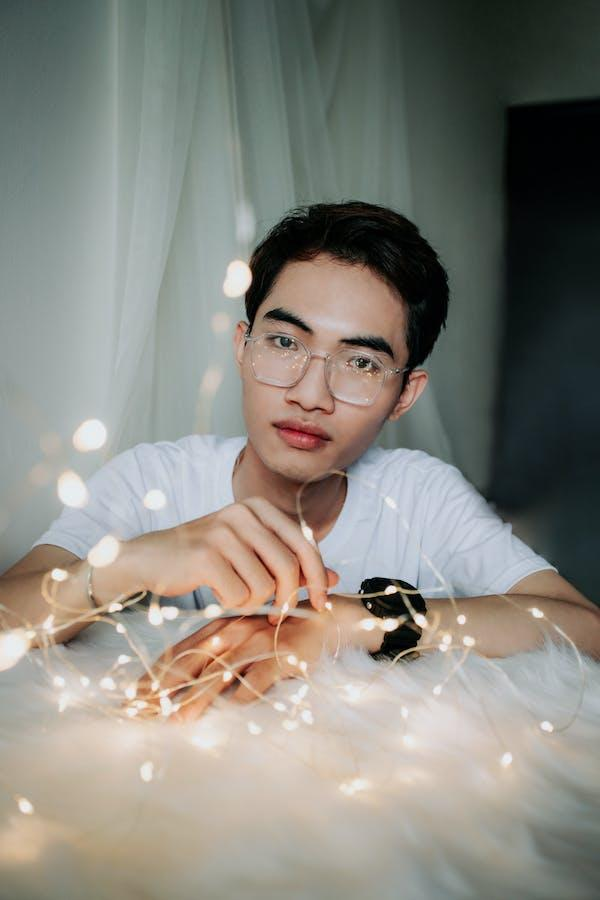eyeglasses: (235, 302, 423, 420)
